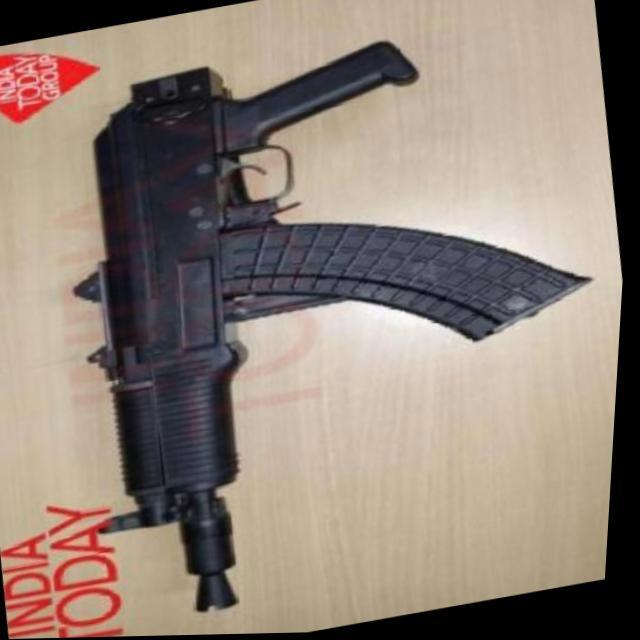weapon: (26, 0, 640, 632)
